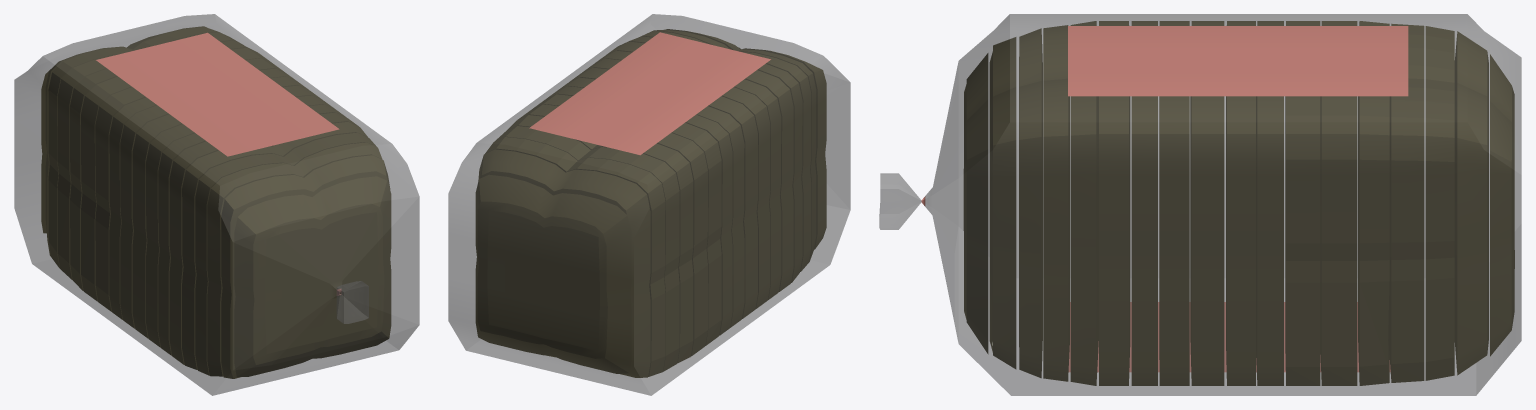
File: bread.fbx
The picture shows the model from 3 angles, left to right: view 1: azimuth 30°, elevation 25°; view 2: azimuth 150°, elevation 25°; view 3: azimuth 270°, elevation 25°; orthographic projection. The views are drawn at different scales.
Parts seen in each view (by area): view 1: pCube22, polySurface48, polySurface40, polySurface42, polySurface36, polySurface32, polySurface44, polySurface34, polySurface46, polySurface39, polySurface37, polySurface38 (+7 smaller); view 2: pCube22, polySurface49, polySurface41, polySurface33, polySurface45, polySurface35, polySurface44, polySurface34, polySurface46, polySurface39, polySurface37, polySurface38 (+6 smaller); view 3: pCube22, polySurface45, polySurface41, polySurface44, polySurface34, polySurface33, polySurface46, polySurface36, polySurface39, polySurface35, polySurface37, polySurface40 (+7 smaller).
Part boxes in pixels (<box>): pCube22: <box>14,14,419,395</box>; polySurface48: <box>234,176,391,376</box>; polySurface40: <box>221,155,390,378</box>; polySurface42: <box>207,142,382,376</box>; polySurface36: <box>195,132,376,375</box>; polySurface32: <box>182,122,367,369</box>; polySurface44: <box>81,48,272,301</box>; polySurface34: <box>95,58,285,311</box>; polySurface46: <box>132,85,322,338</box>; polySurface39: <box>169,112,358,364</box>; polySurface37: <box>146,95,334,347</box>; polySurface38: <box>120,76,308,328</box>; pCube22: <box>448,14,850,395</box>; polySurface49: <box>475,175,631,373</box>; polySurface41: <box>478,149,650,377</box>; polySurface33: <box>485,137,665,376</box>; polySurface45: <box>494,126,679,371</box>; polySurface35: <box>507,115,693,363</box>; polySurface44: <box>518,104,707,356</box>; polySurface34: <box>533,94,721,345</box>; polySurface46: <box>570,67,757,318</box>; polySurface39: <box>606,41,793,291</box>; polySurface37: <box>582,58,770,308</box>; polySurface38: <box>557,77,744,327</box>; pCube22: <box>879,14,1521,395</box>; polySurface45: <box>1388,24,1424,382</box>; polySurface41: <box>1454,31,1488,375</box>; polySurface44: <box>1320,21,1357,385</box>; polySurface34: <box>1285,21,1320,385</box>; polySurface33: <box>1425,26,1454,380</box>; polySurface46: <box>1190,21,1224,385</box>; polySurface36: <box>1043,25,1069,381</box>; polySurface39: <box>1099,21,1130,385</box>; polySurface35: <box>1358,21,1389,385</box>; polySurface37: <box>1159,21,1189,385</box>; polySurface40: <box>989,37,1016,368</box>.
Size of the model in its own units: 0.9524 by 1.03 by 2.17.
